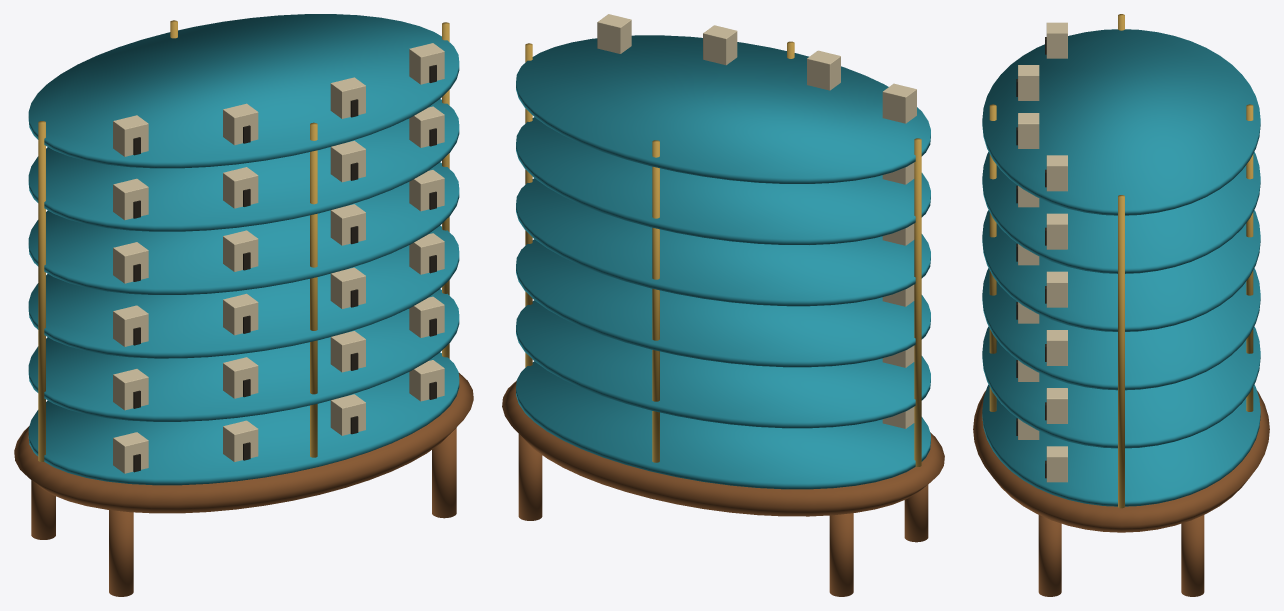
3 renders of one model, left to right at view 1: azimuth 30°, elevation 25°; view 2: azimuth 150°, elevation 25°; view 3: azimuth 270°, elevation 25°, orthographic. The views are drawn at different scales.
Visible parts, largest first — view 1: TI053 / separate oval board.005, TI053 / separate oval board, TI053 / separate oval board.002, TI053 / separate oval board.004, TI053 / separate oval board.001, TI053 / separate oval board.003, TI053 / oval game table base, TI053 / board support column.002, TI053 / board support column.003, TI053 / turned table leg, TI053 / turned table leg.002, TI053 / turned table leg.001 (+25 smaller); view 2: TI053 / separate oval board.005, TI053 / separate oval board.001, TI053 / separate oval board.002, TI053 / separate oval board, TI053 / separate oval board.003, TI053 / separate oval board.004, TI053 / oval game table base, TI053 / board support column.002, TI053 / board support column.001, TI053 / turned table leg.001, TI053 / turned table leg.003, TI053 / turned table leg (+4 smaller); view 3: TI053 / separate oval board.005, TI053 / separate oval board.003, TI053 / separate oval board.004, TI053 / separate oval board, TI053 / separate oval board.002, TI053 / separate oval board.001, TI053 / oval game table base, TI053 / board support column, TI053 / turned table leg.002, TI053 / turned table leg.003, TI053 / board support column.001, TI053 / board support column.003 (+9 smaller).
Boxes of the visible parts, x1=… form: TI053 / separate oval board.005: x1=28, y1=14, x2=459, y2=168; TI053 / separate oval board: x1=28, y1=352, x2=459, y2=485; TI053 / separate oval board.002: x1=28, y1=225, x2=459, y2=358; TI053 / separate oval board.004: x1=28, y1=99, x2=459, y2=231; TI053 / separate oval board.001: x1=28, y1=289, x2=459, y2=421; TI053 / separate oval board.003: x1=28, y1=162, x2=459, y2=294; TI053 / oval game table base: x1=14, y1=373, x2=473, y2=513; TI053 / board support column.002: x1=38, y1=121, x2=45, y2=461; TI053 / board support column.003: x1=310, y1=122, x2=317, y2=457; TI053 / turned table leg: x1=109, y1=510, x2=133, y2=596; TI053 / turned table leg.002: x1=432, y1=428, x2=456, y2=518; TI053 / turned table leg.001: x1=31, y1=480, x2=55, y2=539; TI053 / separate oval board.005: x1=516, y1=35, x2=930, y2=183; TI053 / separate oval board.001: x1=516, y1=300, x2=930, y2=428; TI053 / separate oval board.002: x1=516, y1=239, x2=930, y2=367; TI053 / separate oval board: x1=516, y1=361, x2=930, y2=489; TI053 / separate oval board.003: x1=516, y1=178, x2=930, y2=306; TI053 / separate oval board.004: x1=516, y1=117, x2=930, y2=244; TI053 / oval game table base: x1=502, y1=381, x2=944, y2=516; TI053 / board support column.002: x1=914, y1=138, x2=921, y2=466; TI053 / board support column.001: x1=652, y1=140, x2=659, y2=462; TI053 / turned table leg.001: x1=829, y1=513, x2=853, y2=596; TI053 / turned table leg.003: x1=518, y1=434, x2=542, y2=520; TI053 / turned table leg: x1=904, y1=484, x2=928, y2=542; TI053 / separate oval board.005: x1=982, y1=29, x2=1260, y2=215; TI053 / separate oval board.003: x1=982, y1=210, x2=1260, y2=331; TI053 / separate oval board.004: x1=982, y1=152, x2=1260, y2=273; TI053 / separate oval board: x1=982, y1=384, x2=1260, y2=506; TI053 / separate oval board.002: x1=982, y1=268, x2=1260, y2=390; TI053 / separate oval board.001: x1=982, y1=326, x2=1260, y2=448; TI053 / oval game table base: x1=973, y1=390, x2=1269, y2=532; TI053 / board support column: x1=1118, y1=195, x2=1124, y2=508; TI053 / turned table leg.002: x1=1038, y1=515, x2=1061, y2=596; TI053 / turned table leg.003: x1=1181, y1=515, x2=1204, y2=596; TI053 / board support column.001: x1=1246, y1=104, x2=1253, y2=411; TI053 / board support column.003: x1=989, y1=104, x2=996, y2=411.
Size of the model in its own units: 3.2 by 3.29 by 2.08.
